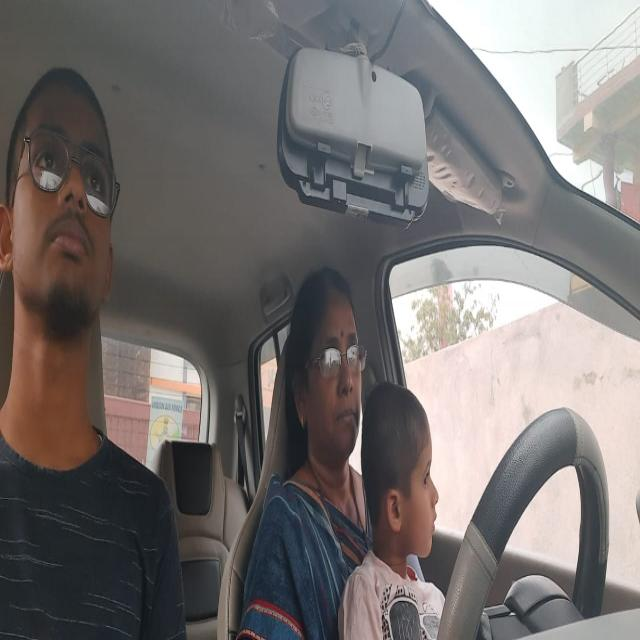child: (361, 380, 445, 570)
person: (0, 45, 126, 389), (283, 259, 369, 485)
